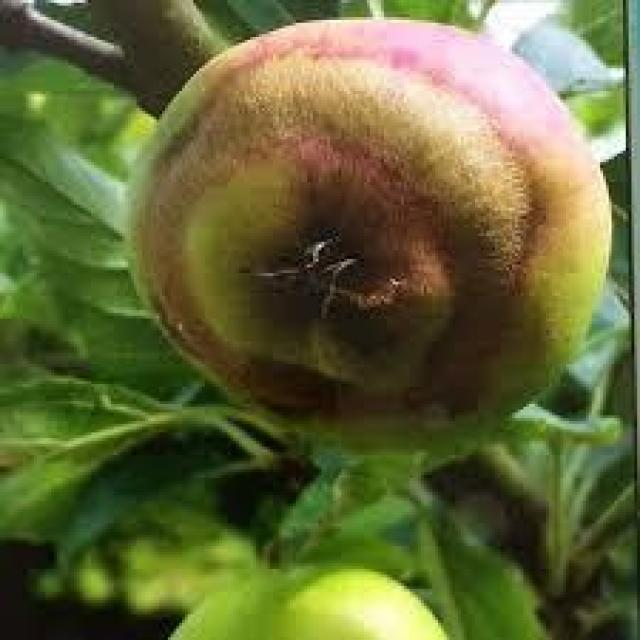maca: (123, 14, 612, 444)
